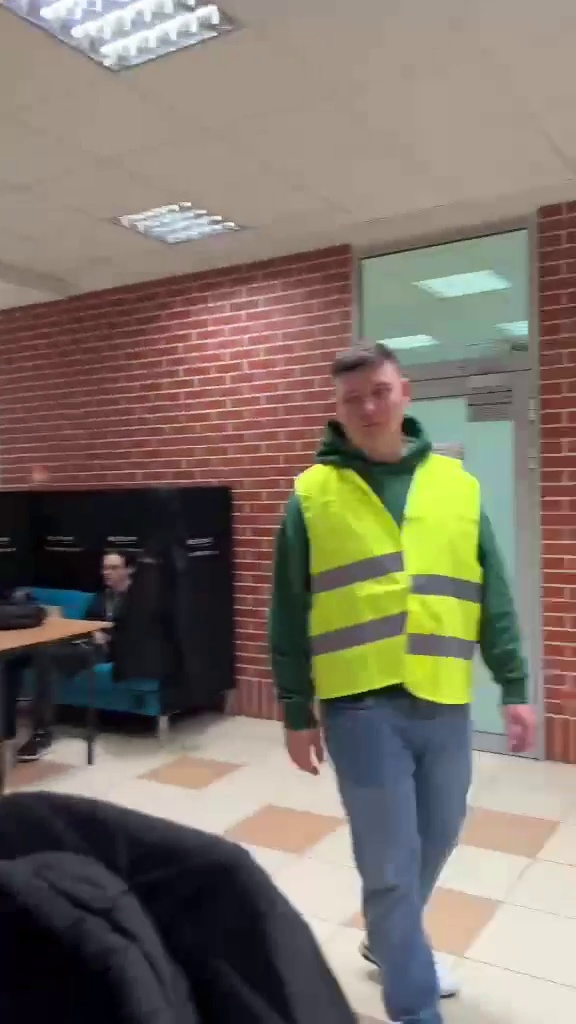no vest: (13, 556, 142, 752)
vest: (266, 338, 541, 1007)
